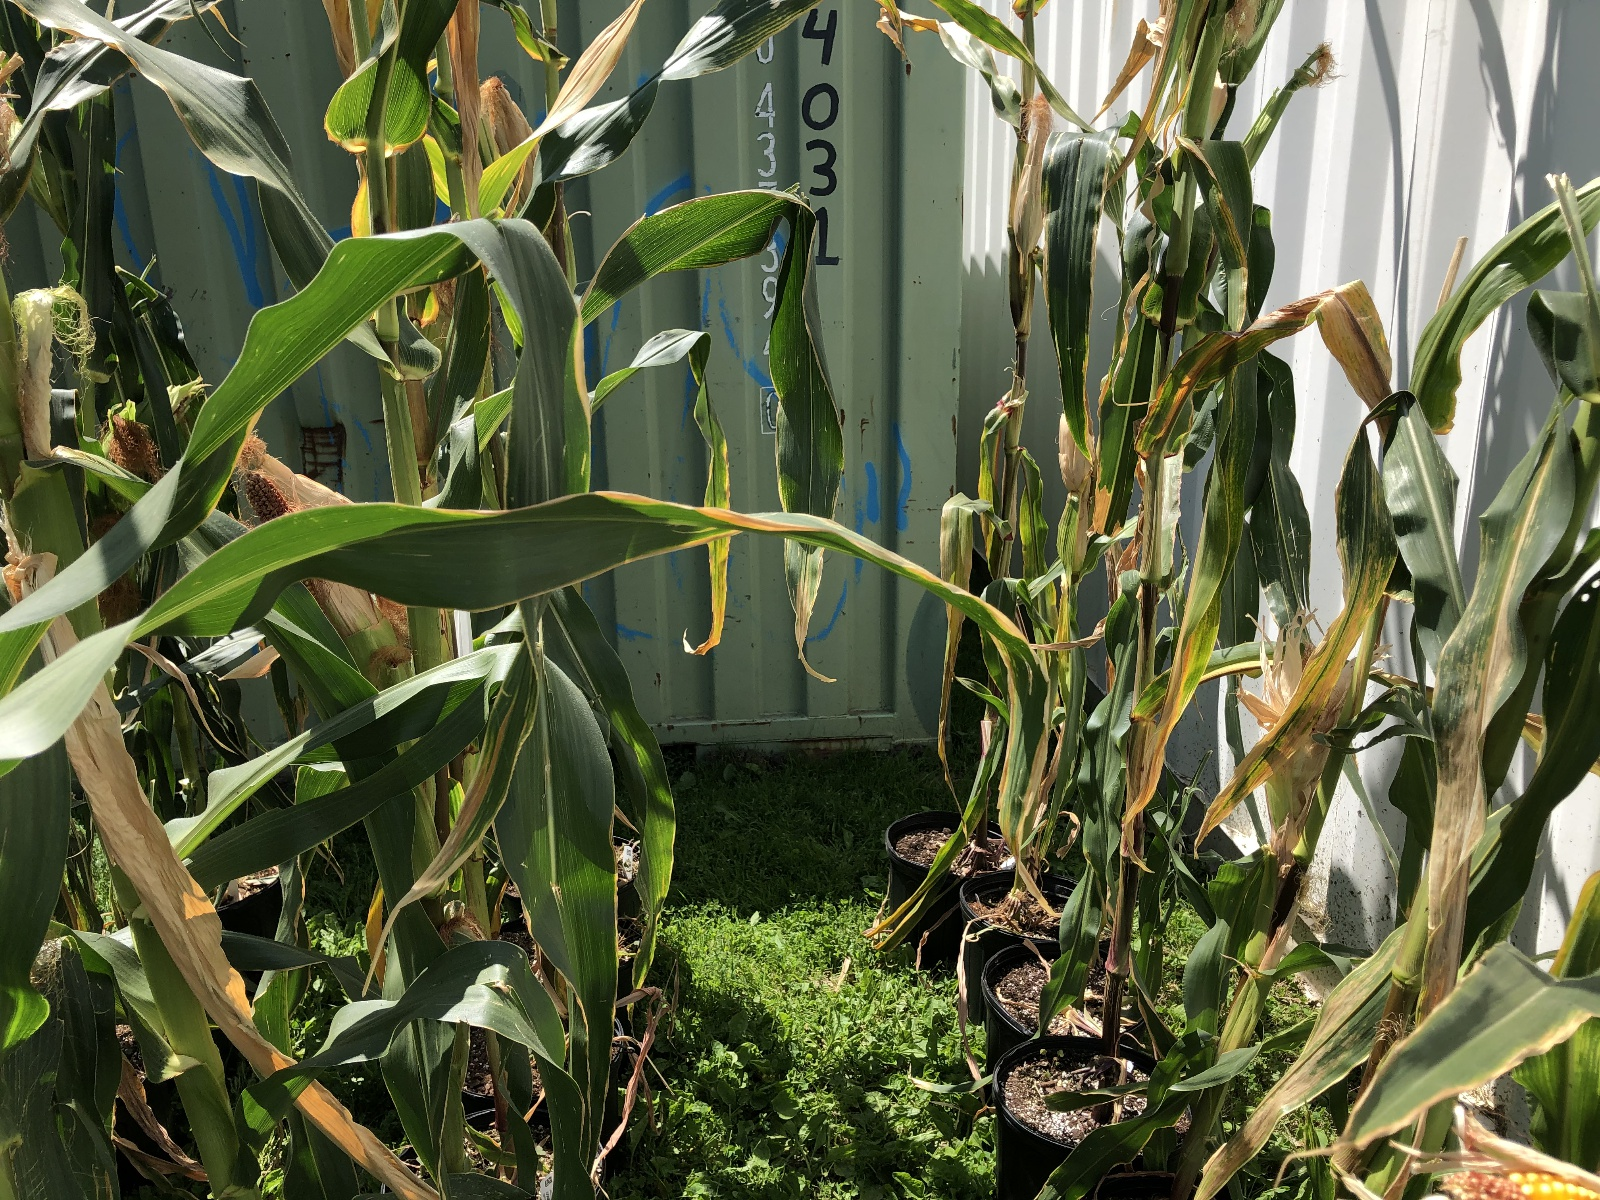ear: (231, 468, 393, 652), (1432, 1119, 1592, 1200), (1000, 91, 1060, 246), (477, 73, 551, 192), (1054, 405, 1099, 494)
